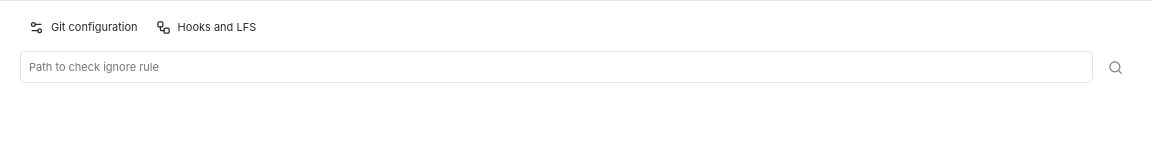
Test: reports query failures instead of claiming no rule matched
Type "file.txt" into the field named "Repository-relative path" at (556, 67), box [20,51,1093,83]
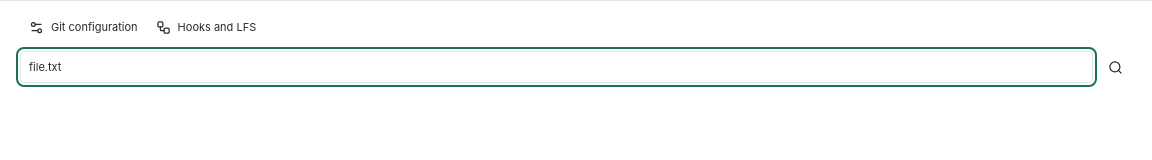
Click the button named "Check ignore rule" at (1116, 67), box [1099,51,1132,83]
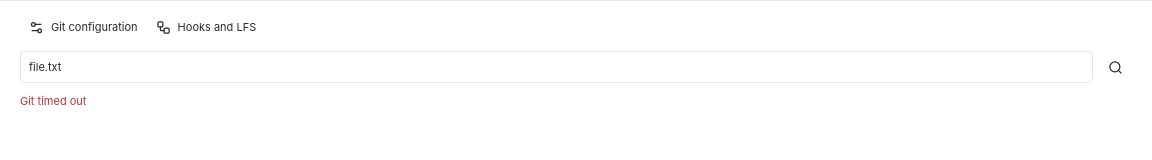
expect the message "Git timed out" is shown: met, box [20,94,86,108]
